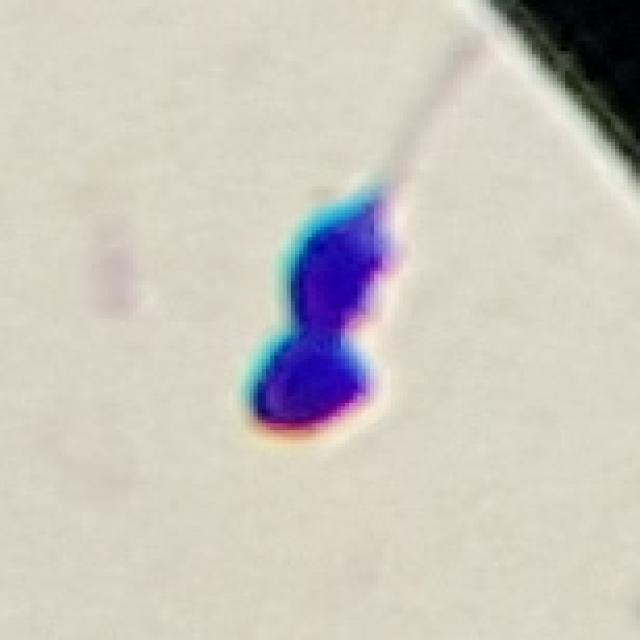abnormal sperm: (245, 64, 440, 452)
